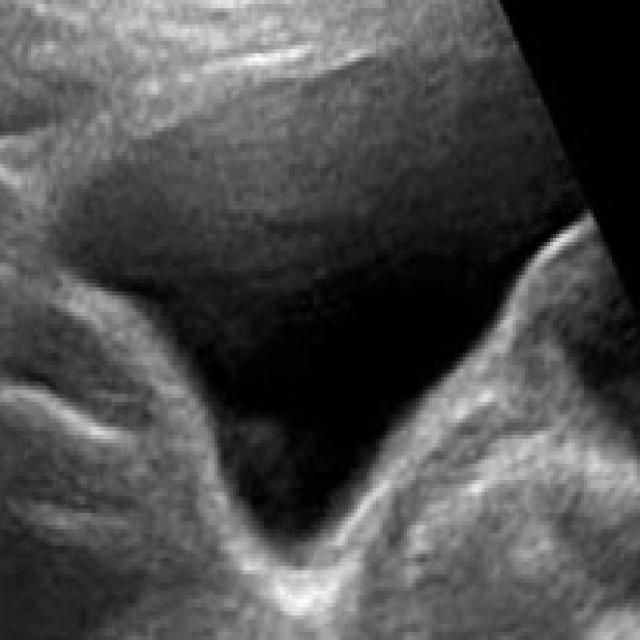bladder: (12, 0, 603, 584)
